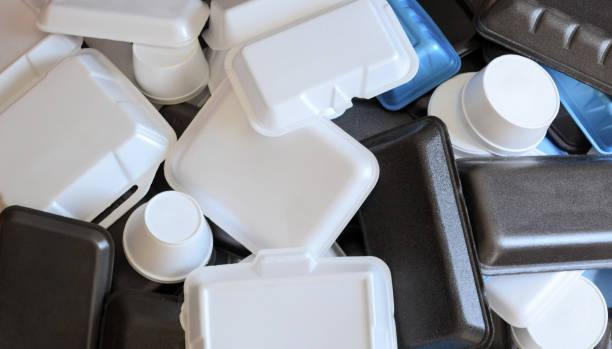PS: (0, 0, 178, 229), (162, 77, 380, 255), (204, 0, 420, 140), (177, 248, 400, 348), (460, 52, 561, 157), (34, 0, 212, 48), (122, 191, 215, 282), (130, 40, 211, 106)
